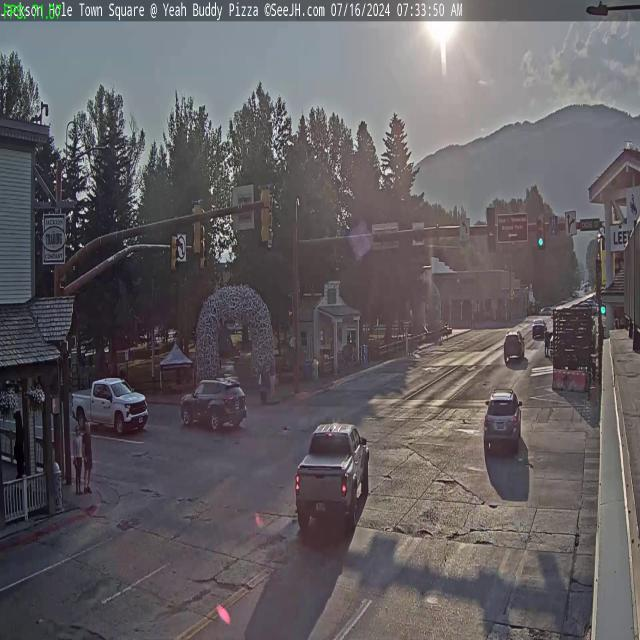person: (78, 404, 90, 491), (72, 424, 82, 494), (258, 362, 268, 404), (269, 360, 276, 400), (544, 326, 550, 358)
pickup: (294, 419, 374, 540), (71, 378, 148, 433)
sedan: (532, 319, 546, 336)
suv: (183, 372, 247, 429), (484, 387, 522, 454), (504, 330, 524, 362)
traffic light: (260, 184, 272, 244), (191, 200, 203, 256), (486, 208, 497, 254), (170, 234, 179, 273), (536, 214, 546, 249)
